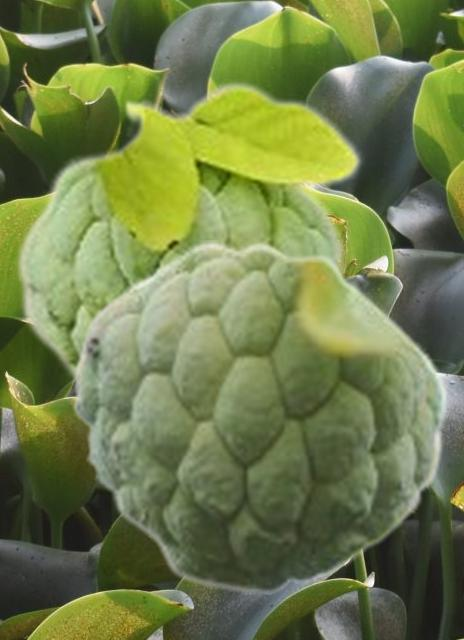atis: (71, 240, 449, 593), (13, 79, 363, 381)
